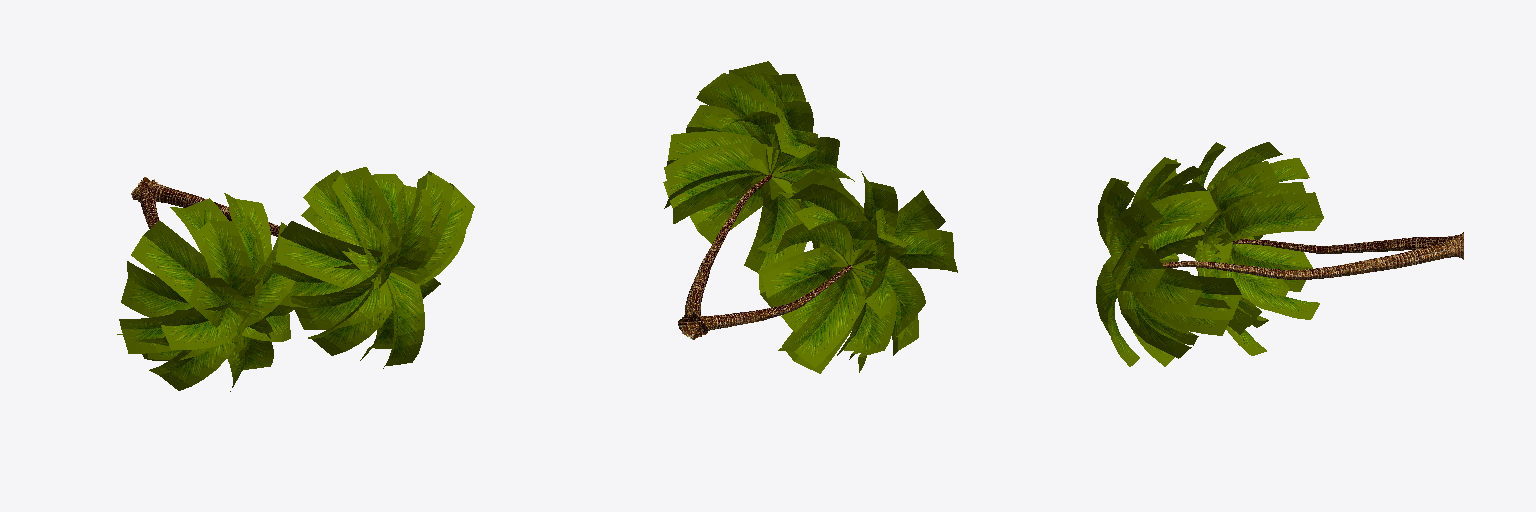
3 views of the same model, side by side, from view 1: azimuth 30°, elevation 25°; view 2: azimuth 150°, elevation 25°; view 3: azimuth 270°, elevation 25° (orthographic).
Visible parts, largest first — view 1: g2, g1; view 2: g2, g1; view 3: g2, g1.
Boxes of the visible parts, x1,y1,x2,y2 form: g2: [117, 167, 474, 391]; g1: [131, 177, 279, 236]; g2: [663, 61, 957, 373]; g1: [678, 174, 851, 339]; g2: [1096, 142, 1323, 366]; g1: [1162, 232, 1463, 279].
Size of the model in its own units: 4.33 by 3.3 by 4.68.
Materials: 2 (2 with a texture image).